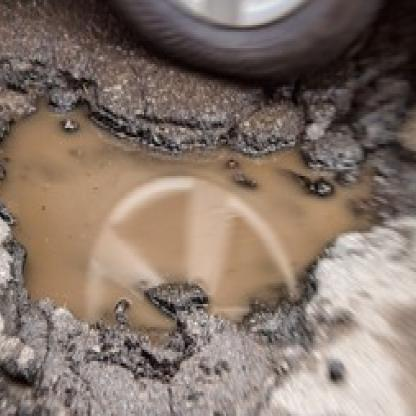pothole: (0, 69, 397, 352)
